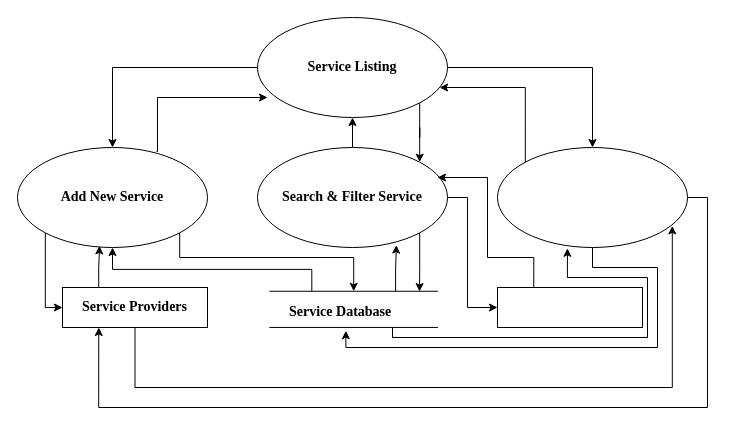
This 733x433 diagram has some shape labels left out. The shapes that lost their labels are listed below. From the top down, each one's centre as x and y in pixels, then its label:
At point (592, 197): "Edit/Delete Service".
At point (569, 307): "Clients".
